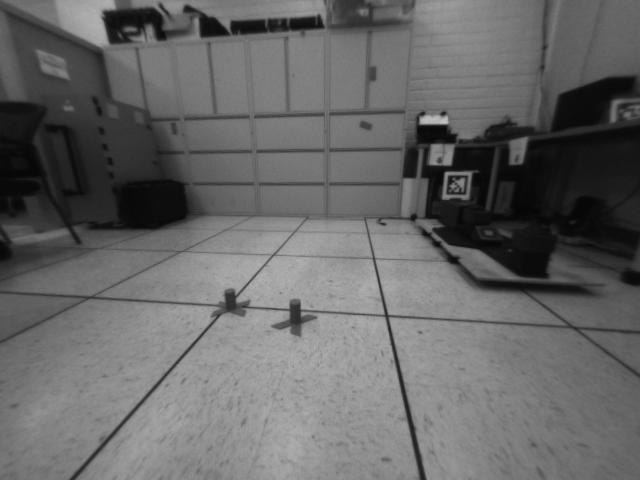X: (270, 296, 317, 338), (208, 287, 252, 319)
